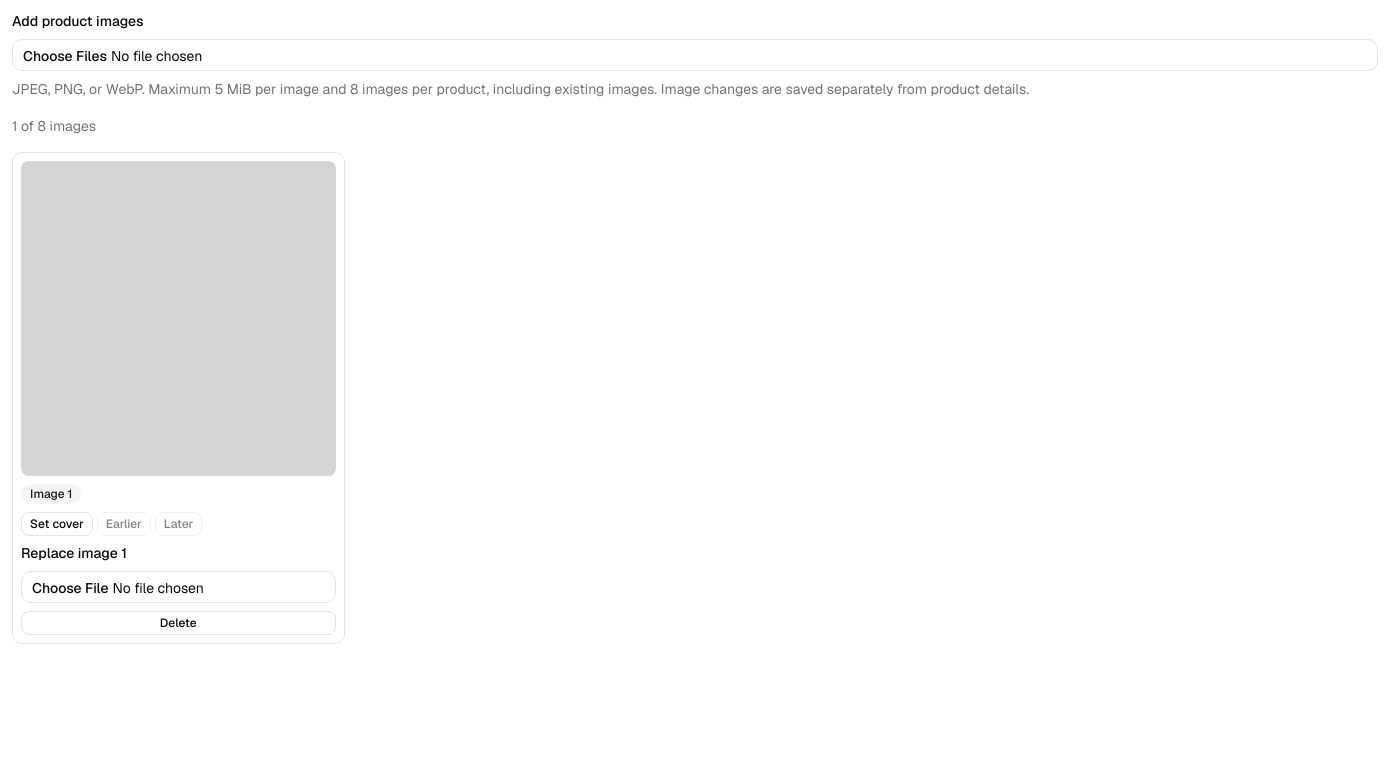
Test: lets a legacy gallery-only product select its first image as cover
Click the button with aria-label "Make image 1 cover" at {"x": 57, "y": 524}, box [21,512,93,536]
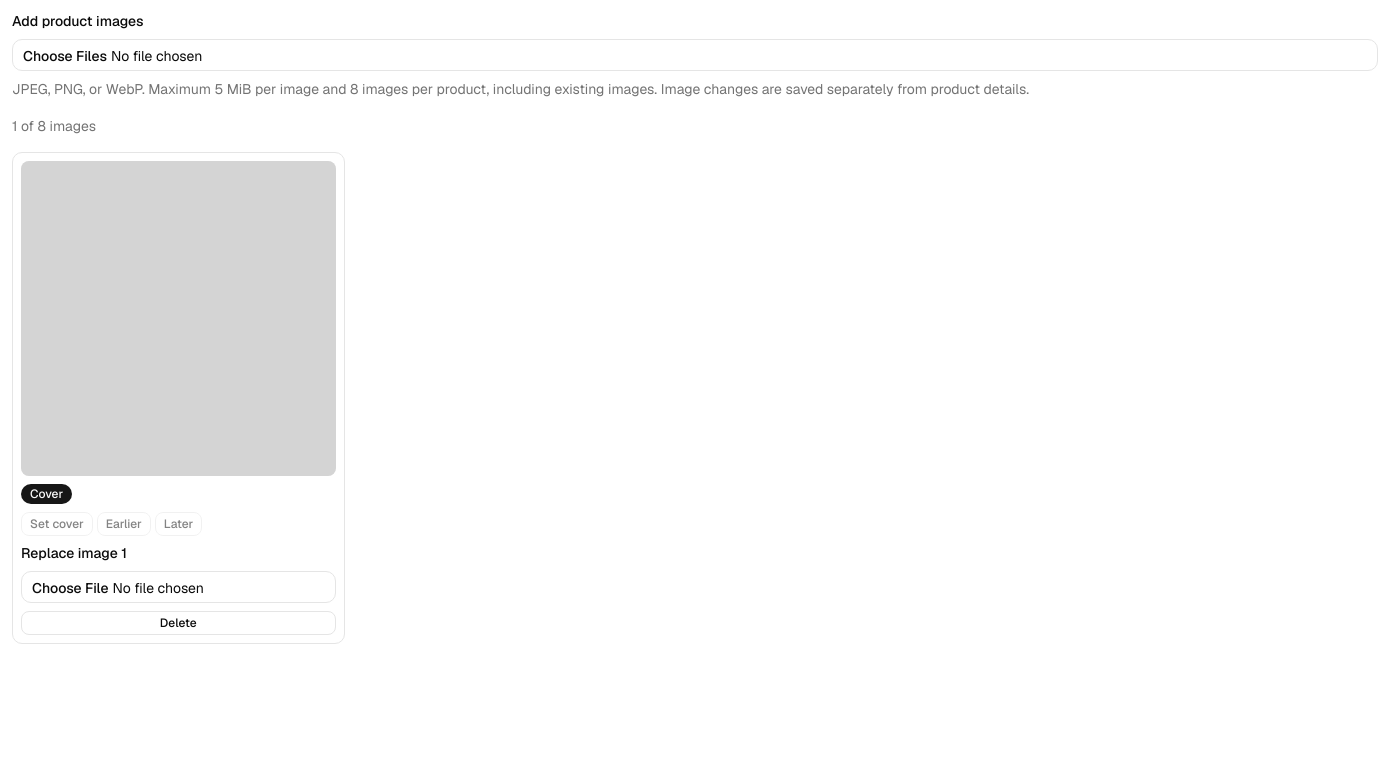
Now the icon "Cover" is shown, box [21,484,72,504]
